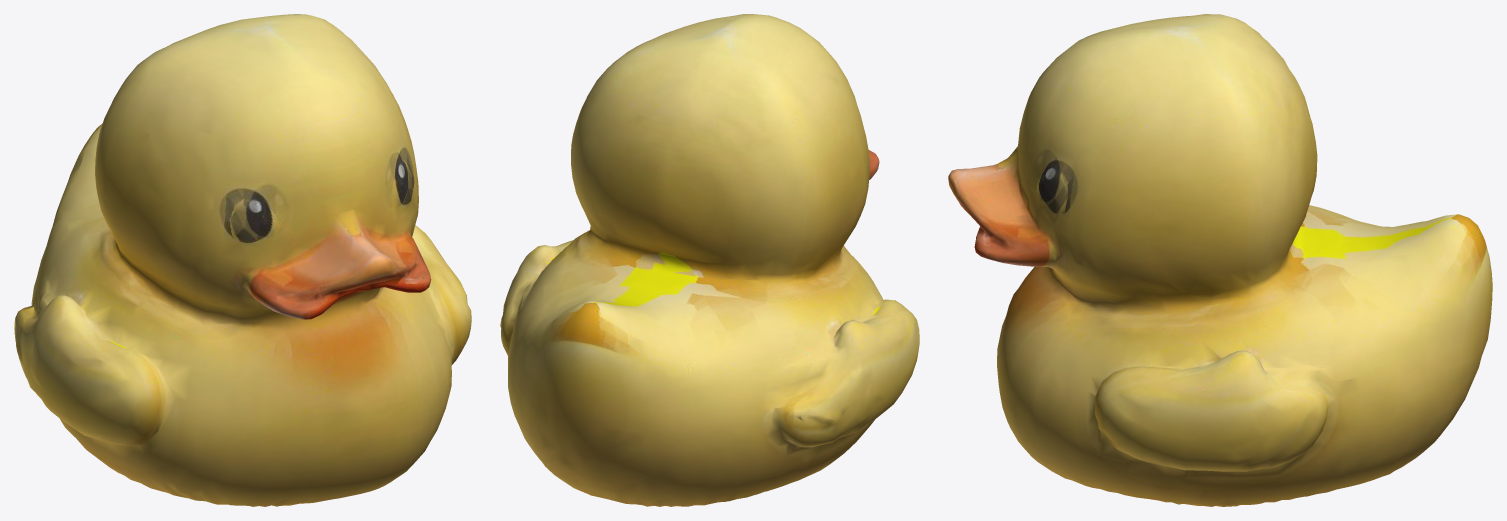
The model's file is duck.glb.
The picture shows the model from 3 angles, left to right: view 1: azimuth 30°, elevation 25°; view 2: azimuth 150°, elevation 25°; view 3: azimuth 270°, elevation 25°; orthographic projection. The views are drawn at different scales.
Visible parts, largest first — view 1: Body; view 2: Body; view 3: Body.
Boxes of the visible parts, bbox=[...] form: Body: bbox=[14, 14, 471, 506]; Body: bbox=[500, 14, 919, 506]; Body: bbox=[948, 14, 1492, 506].
Bounding box in the file's own units: 0.8094 × 0.8785 × 0.9891.
Materials: 1 (1 with a texture image).
